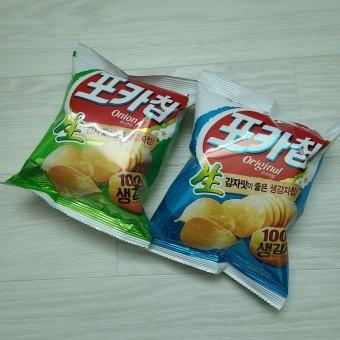snack: (148, 69, 340, 311), (0, 41, 199, 252)
